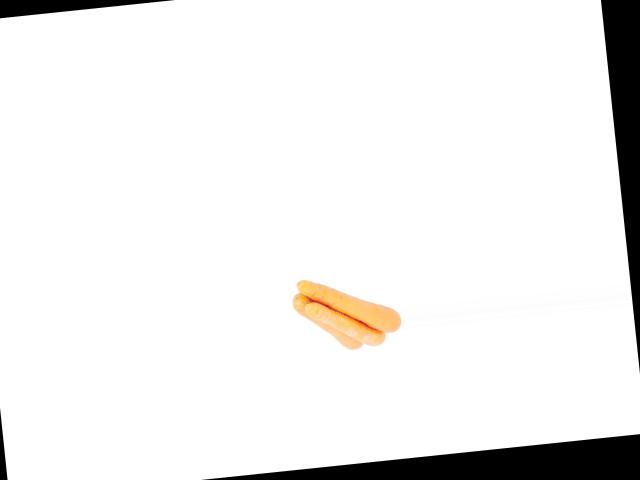carrot: (299, 271, 403, 341)
